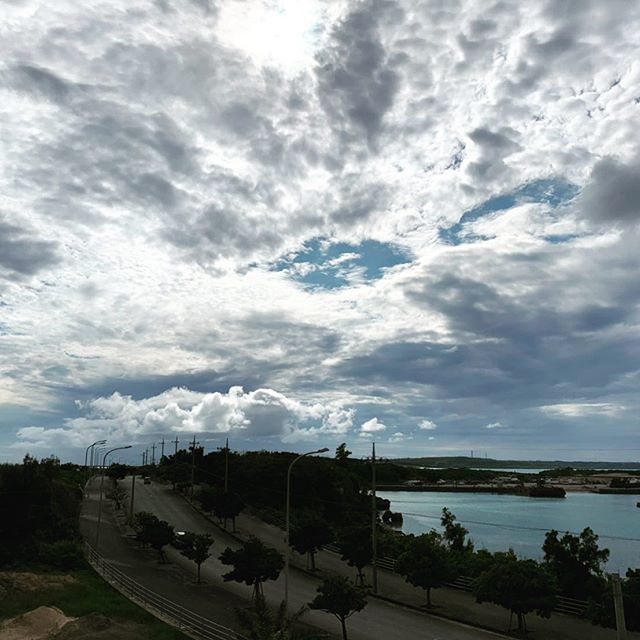river: (391, 487, 640, 578)
sky: (19, 1, 640, 441)
street: (94, 473, 515, 640)
vegetation: (220, 440, 423, 542), (1, 464, 95, 621)
